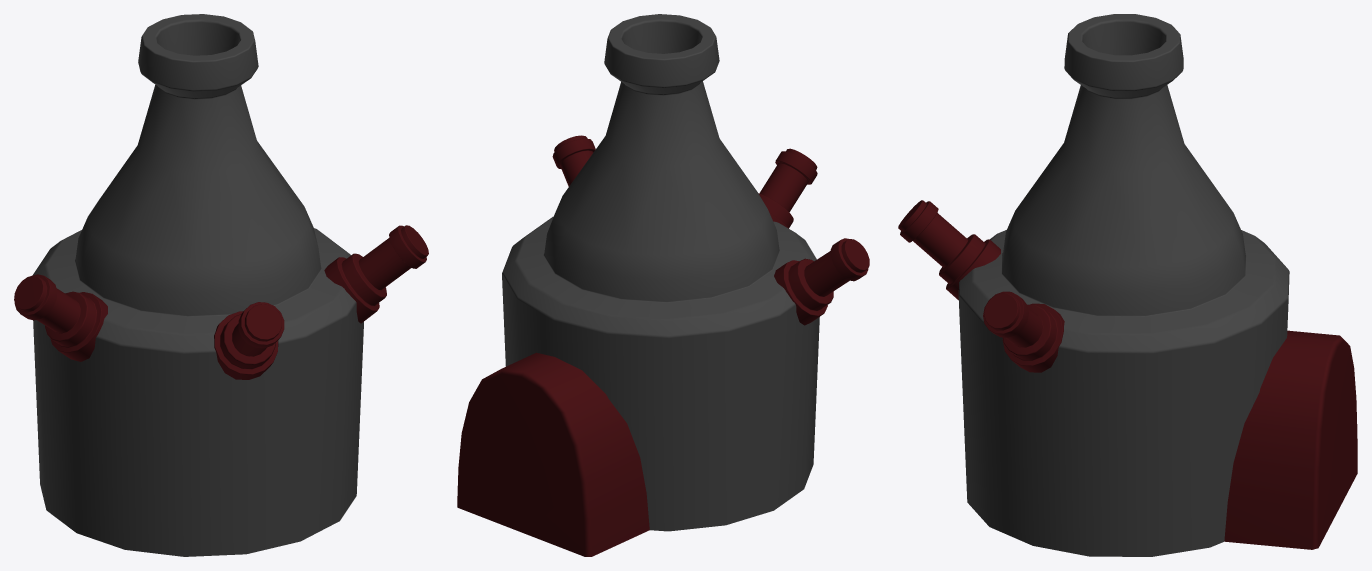
The model's file is colony_Reactor_add.glb.
3 renders of one model, left to right at view 1: azimuth 30°, elevation 25°; view 2: azimuth 150°, elevation 25°; view 3: azimuth 270°, elevation 25°, orthographic. The views are drawn at different scales.
Parts seen in each view (by area): view 1: Reactor_add; view 2: Reactor_add; view 3: Reactor_add.
Part boxes in pixels (left/top/right/bottom): Reactor_add: left=14, top=14, right=428, bottom=556; Reactor_add: left=457, top=14, right=869, bottom=556; Reactor_add: left=898, top=14, right=1357, bottom=556.
Bounding box in the file's own units: 417 × 491 × 451.
1 material, 1 textured.
